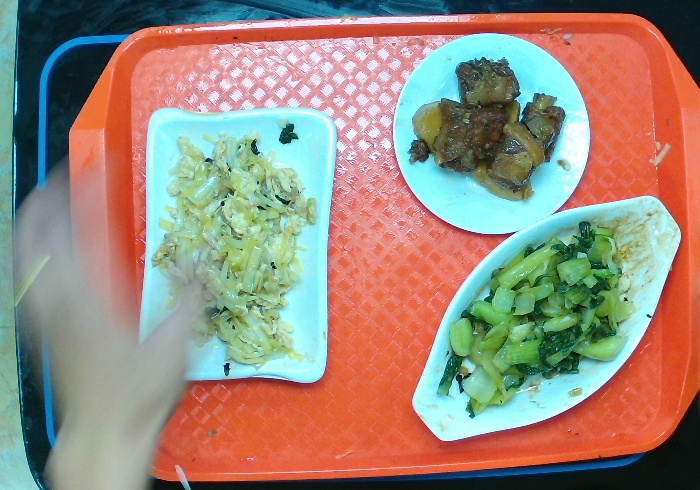RJxy-Si_Fang_Ao_Bian_Wan: (136, 105, 336, 389)
RJxy-Xiao_Yuan_Die: (390, 31, 592, 240)
RJxy-Yu_Pan: (408, 191, 679, 446)
